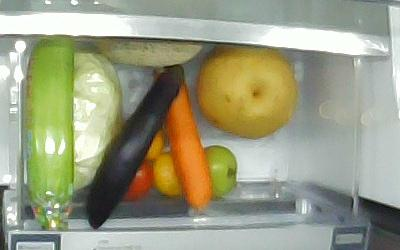cabbage: (70, 43, 122, 194)
carrot: (154, 68, 211, 211)
eggplant: (86, 65, 185, 230)
melon: (96, 39, 203, 67)
pear: (197, 46, 297, 139)
prune: (121, 161, 153, 202)
tangerine: (153, 153, 182, 198), (145, 128, 164, 159)
tomato: (204, 145, 237, 197)
zucchini: (23, 36, 74, 231)
